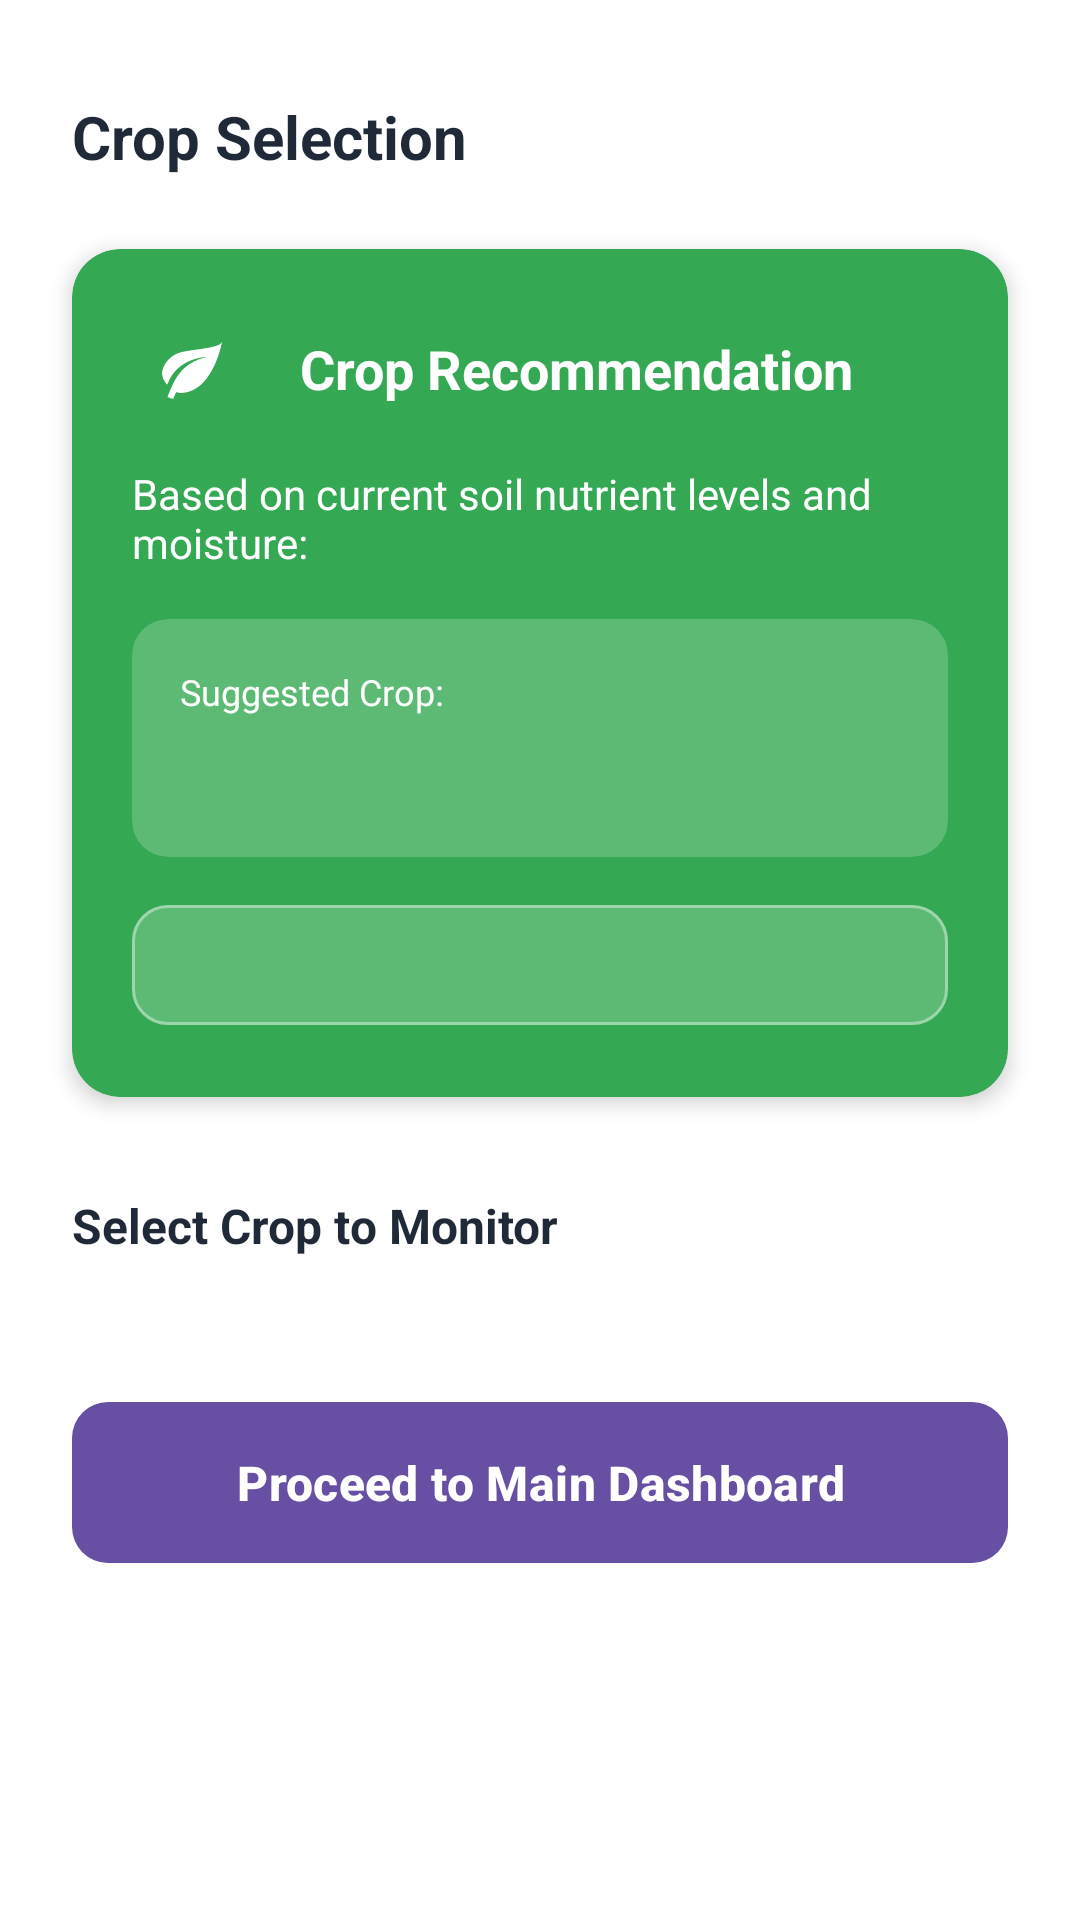

Named icons in this screenshot (1080 x 1920) and their bounding boxes, (x1, y1, x2, y2):
leaf: (162, 342, 222, 399)
